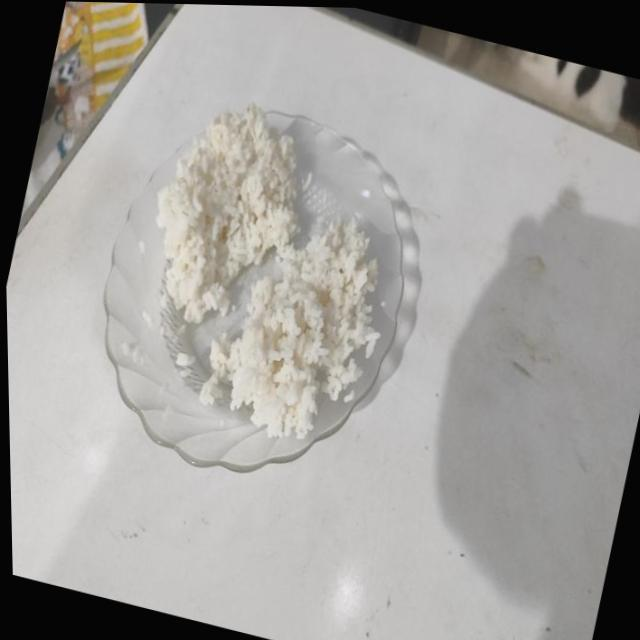nasi_putih: (200, 218, 378, 438), (156, 105, 298, 322)
